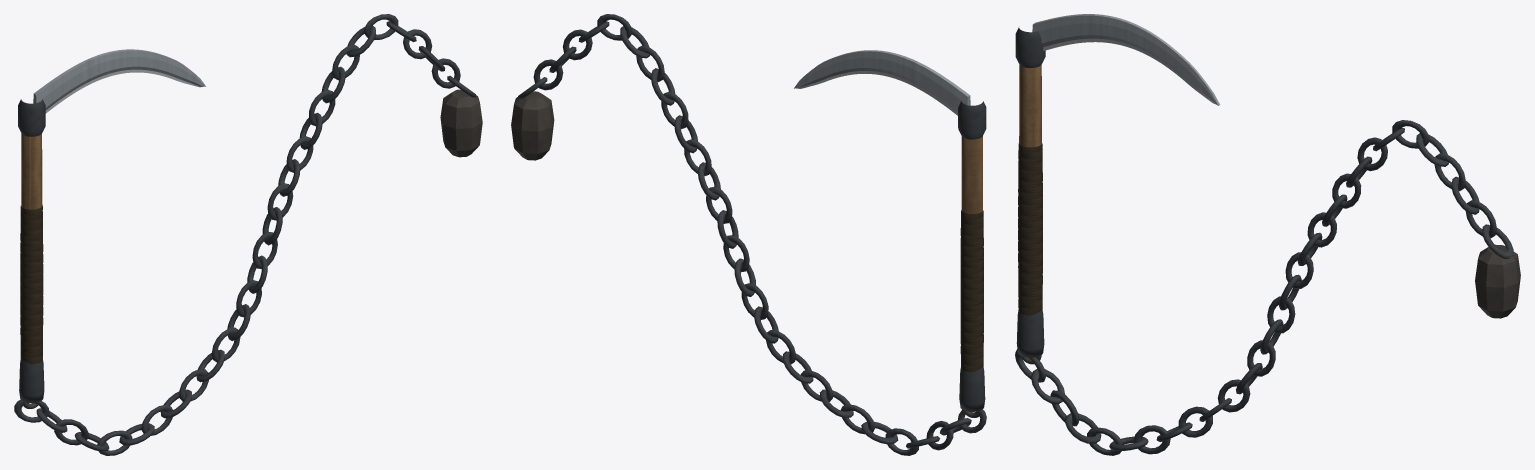
Rendered from chain-sickle.glb.
3 renders of one model, left to right at view 1: azimuth 30°, elevation 25°; view 2: azimuth 150°, elevation 25°; view 3: azimuth 330°, elevation 25°, orthographic. The views are drawn at different scales.
Parts seen in each view (by area): view 1: darksteel / oil-blackened fittings, cord / waxed silk cord wrap, steel / forged blade steel, iron / hammer-scaled wrought iron, wood / oiled hardwood, edge / honed bright bevel; view 2: darksteel / oil-blackened fittings, cord / waxed silk cord wrap, steel / forged blade steel, iron / hammer-scaled wrought iron, wood / oiled hardwood, edge / honed bright bevel; view 3: darksteel / oil-blackened fittings, cord / waxed silk cord wrap, steel / forged blade steel, iron / hammer-scaled wrought iron, wood / oiled hardwood, edge / honed bright bevel.
Part boxes in pixels (x1,y1,x2,y2): darksteel / oil-blackened fittings: (14, 14, 475, 455); cord / waxed silk cord wrap: (20, 205, 43, 364); steel / forged blade steel: (33, 49, 206, 110); iron / hammer-scaled wrought iron: (23, 89, 482, 408); wood / oiled hardwood: (21, 133, 42, 209); edge / honed bright bevel: (45, 69, 203, 113); darksteel / oil-blackened fittings: (518, 14, 986, 455); cord / waxed silk cord wrap: (960, 210, 983, 372); steel / forged blade steel: (794, 50, 970, 112); iron / hammer-scaled wrought iron: (511, 91, 979, 417); wood / oiled hardwood: (961, 136, 982, 213); edge / honed bright bevel: (796, 71, 957, 115); darksteel / oil-blackened fittings: (1015, 27, 1513, 455); cord / waxed silk cord wrap: (1018, 143, 1042, 315); steel / forged blade steel: (1032, 14, 1220, 105); iron / hammer-scaled wrought iron: (1020, 244, 1520, 364); wood / oiled hardwood: (1019, 65, 1041, 147); edge / honed bright bevel: (1043, 38, 1215, 104).
Size of the model in its own units: 0.735 by 0.6007 by 0.0694.
Materials: 6 (6 with a texture image).
